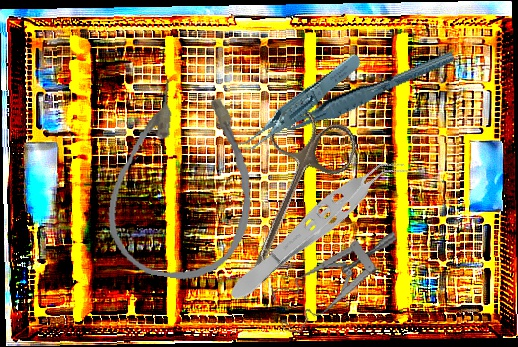Cannula: (100, 72, 268, 289)
Iris Scissors: (208, 100, 363, 318)
Speculum: (264, 231, 411, 336)
Tissue Forceps: (222, 144, 410, 311), (269, 50, 462, 136), (218, 51, 376, 156)
